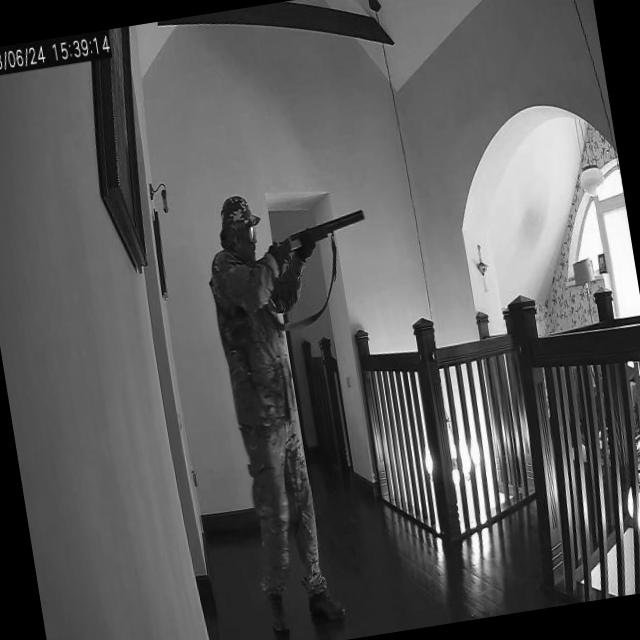gun: (255, 206, 372, 267)
person with a gun: (194, 171, 439, 640)
